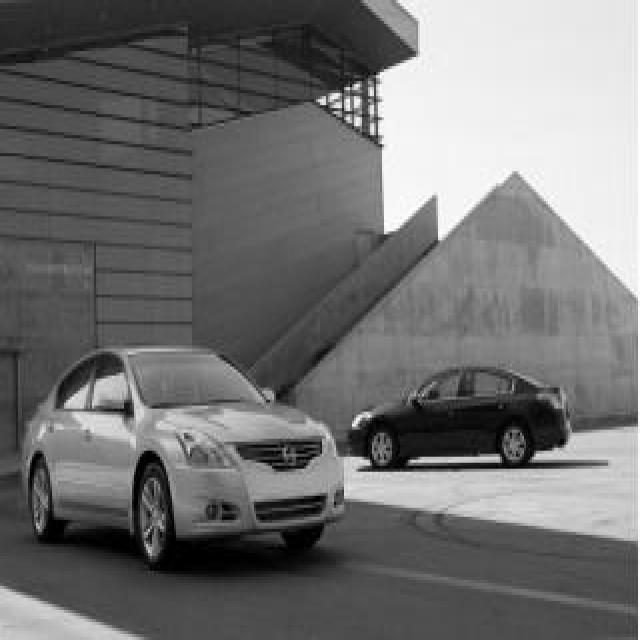Car: (22, 349, 344, 566), (349, 368, 571, 469)
